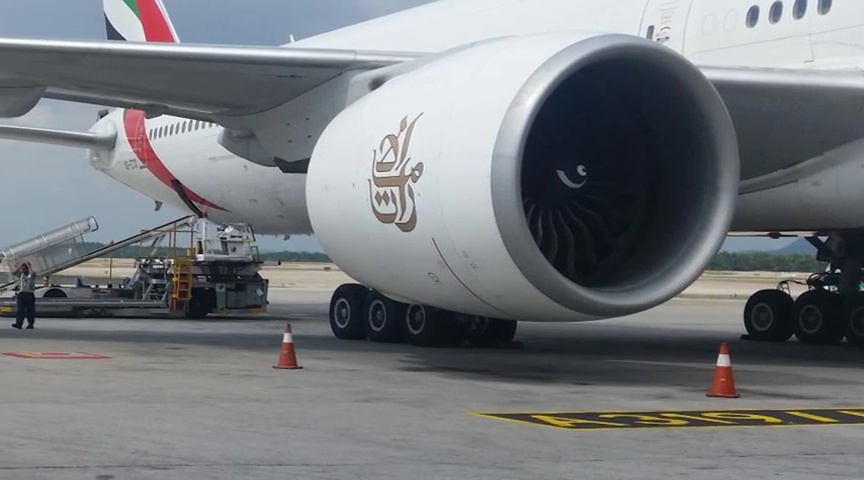safety_cone: (704, 342, 741, 399), (271, 322, 303, 370)
